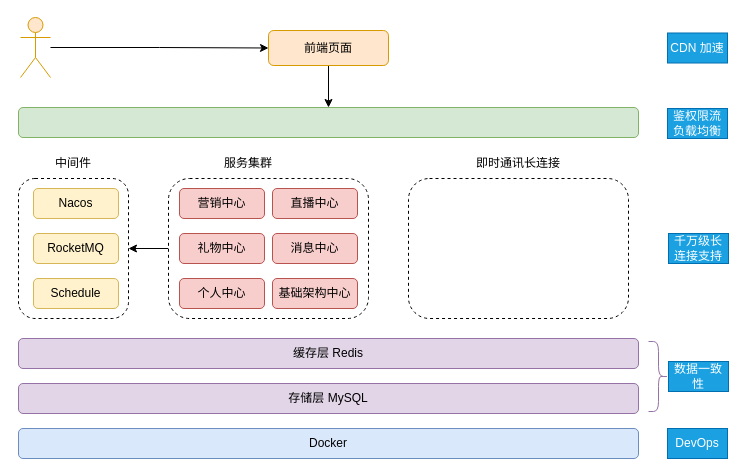
Some shapes in this 746 by 476 pixel diagram are drawn without their labels. The shapes that lost their labels are listed below. From the top down, each one's centre as x and y in pixels, then its label:
At (x=35, y=47): "客户端".
At (x=328, y=122): "网关 Gateway".
At (x=518, y=248): "Netty".
